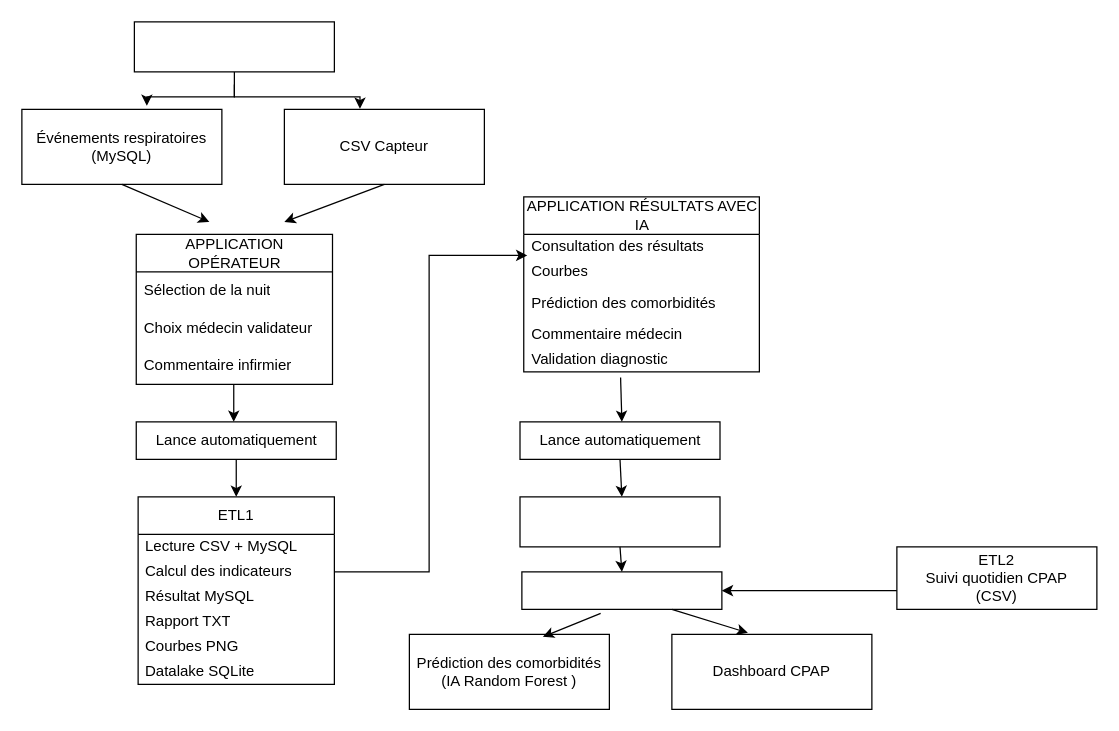
The diagram is 1119 pixels wide and 731 high, and some of its shapes have lost their labels. The centre of each missing label's shape, as x and y in pixels:
"BASE ANALYTIQUE (Modèle Galaxie)" belongs at (x=621, y=590).
"ETL3 Alimentation base analytique" belongs at (x=619, y=521).
"Patient fait une nuit" belongs at (x=233, y=46).
